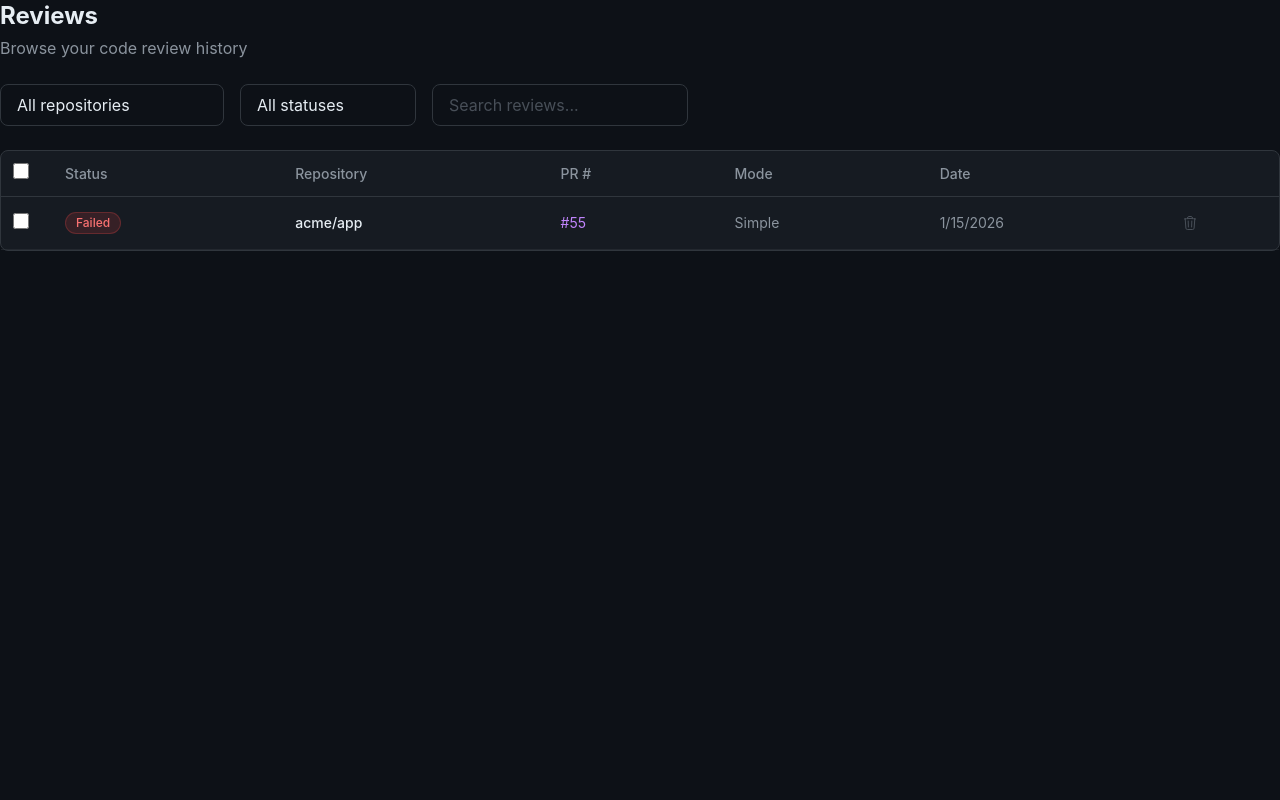
Reviews — detail modal › opens the detail modal when a review row is clicked
Note: Click the review row
Click the text "acme/app" at (329,222), box x1=271 y1=196 x2=537 y2=250
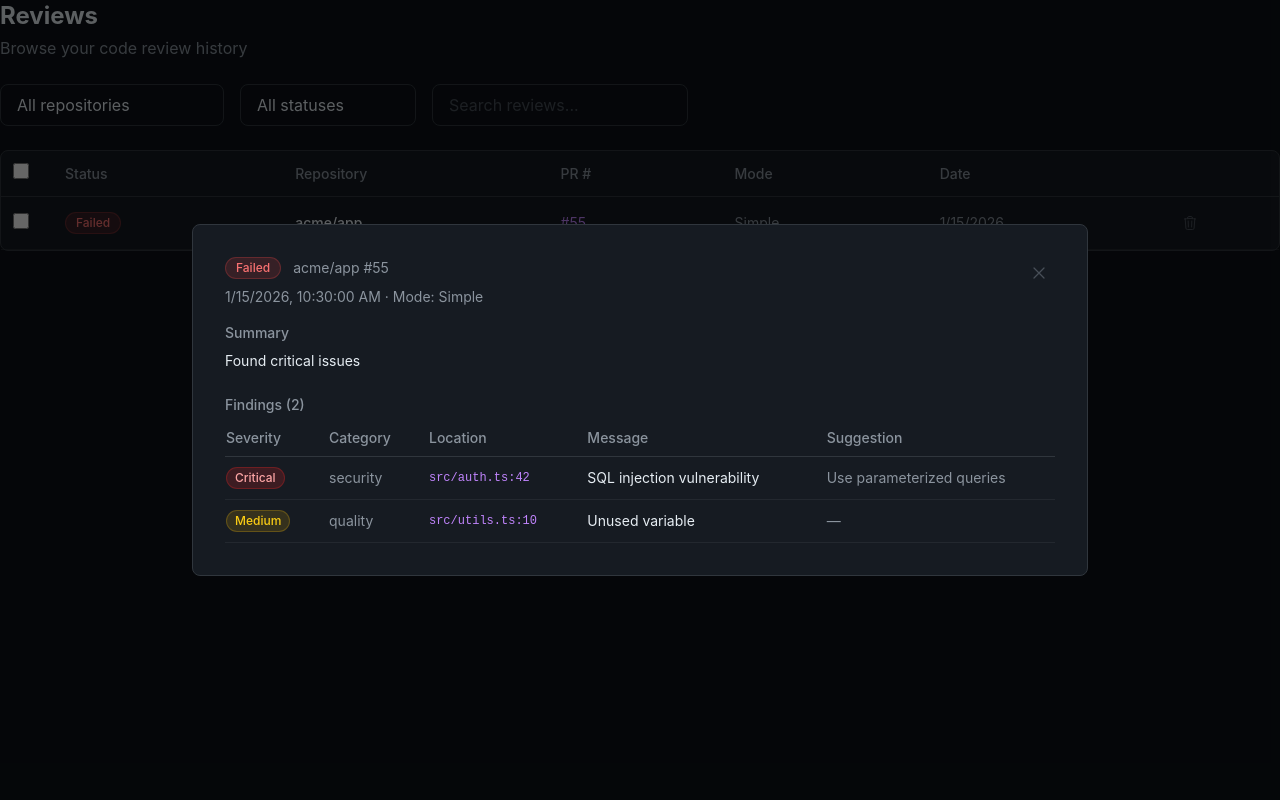
Check: the text "Found critical issues" is shown, box x1=225 y1=352 x2=360 y2=369
Check: the text "acme/app #55" is shown, box x1=293 y1=258 x2=389 y2=278
